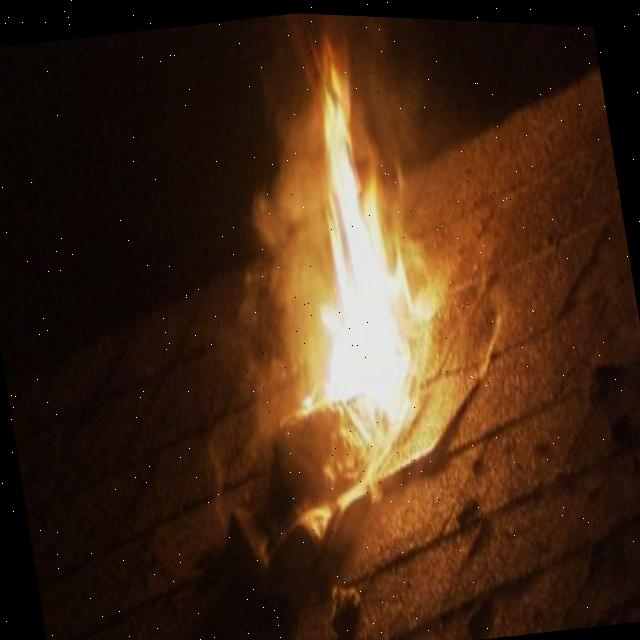fire: (323, 47, 414, 424)
smoke: (241, 11, 456, 488)
